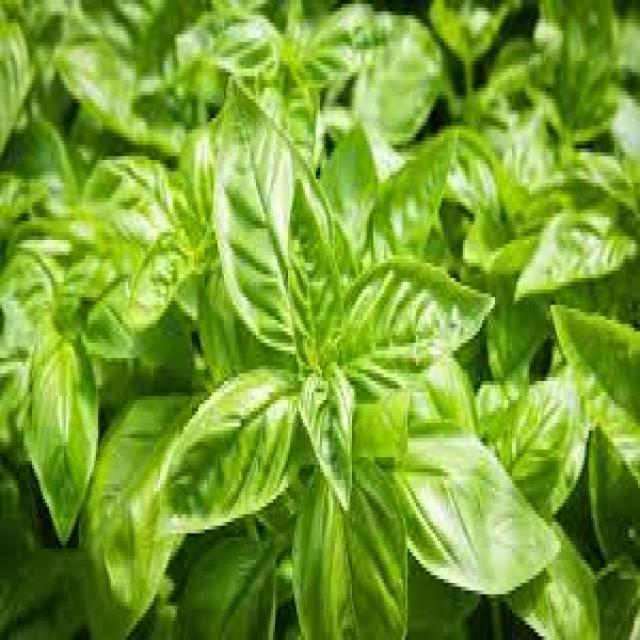healthy: (2, 0, 561, 553)
